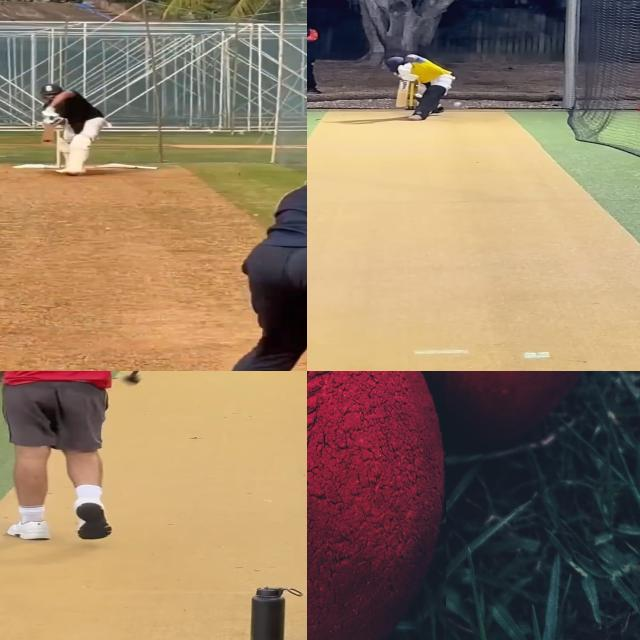Cricket ball: (307, 371, 445, 640), (453, 101, 463, 108), (44, 138, 52, 142)
